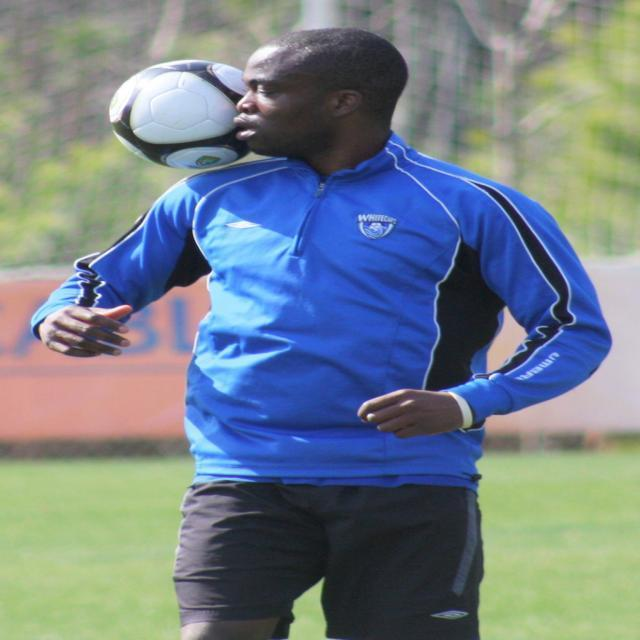football: (110, 34, 272, 196)
